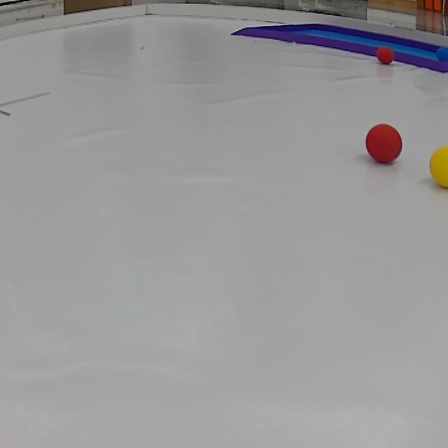blue: (436, 46, 448, 61)
blue_aim: (236, 13, 448, 85)
red: (365, 124, 406, 163), (374, 45, 397, 63)
yellow: (433, 144, 448, 185)
